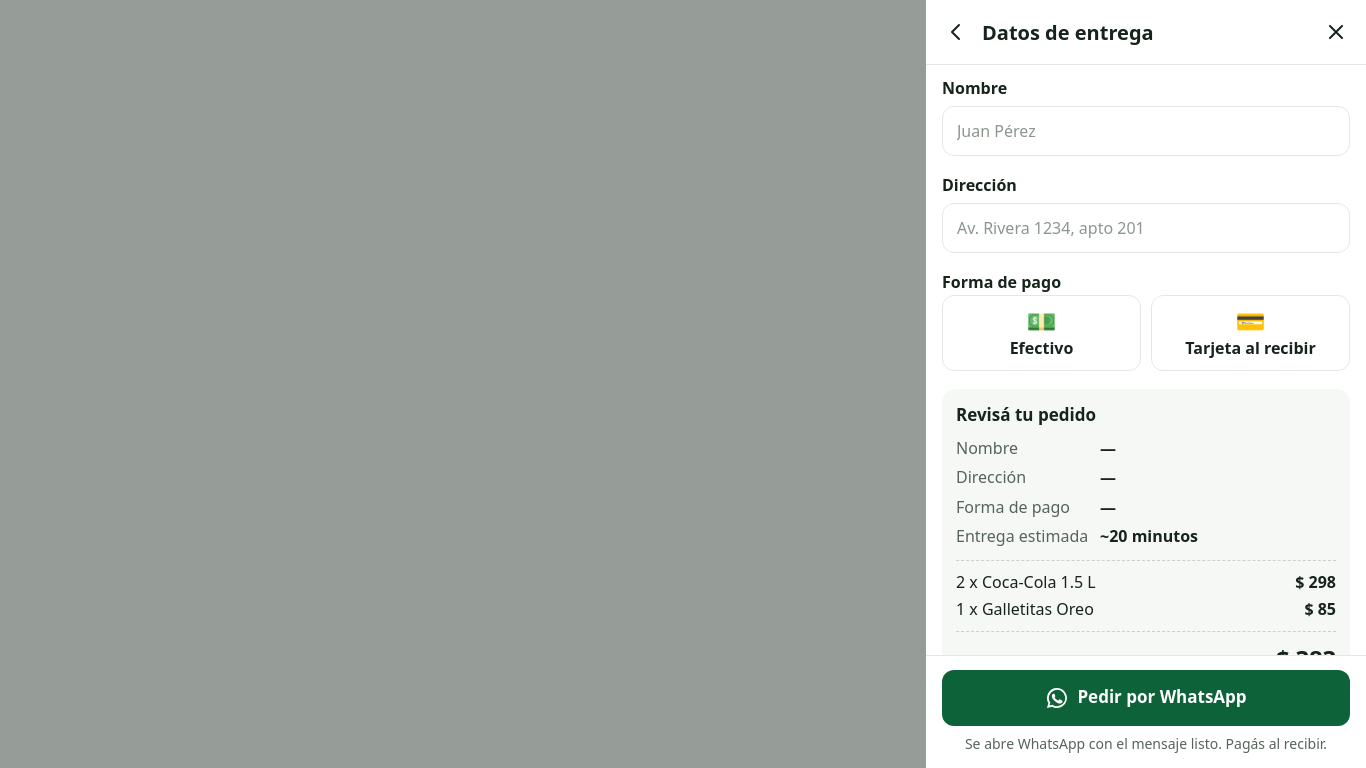
CheckoutModal › no envía sin dirección y lo explica
Step 1. Type "Juan" into the field labelled "Nombre" → (1146,131), box top-left (942, 106), bottom-right (1350, 156)
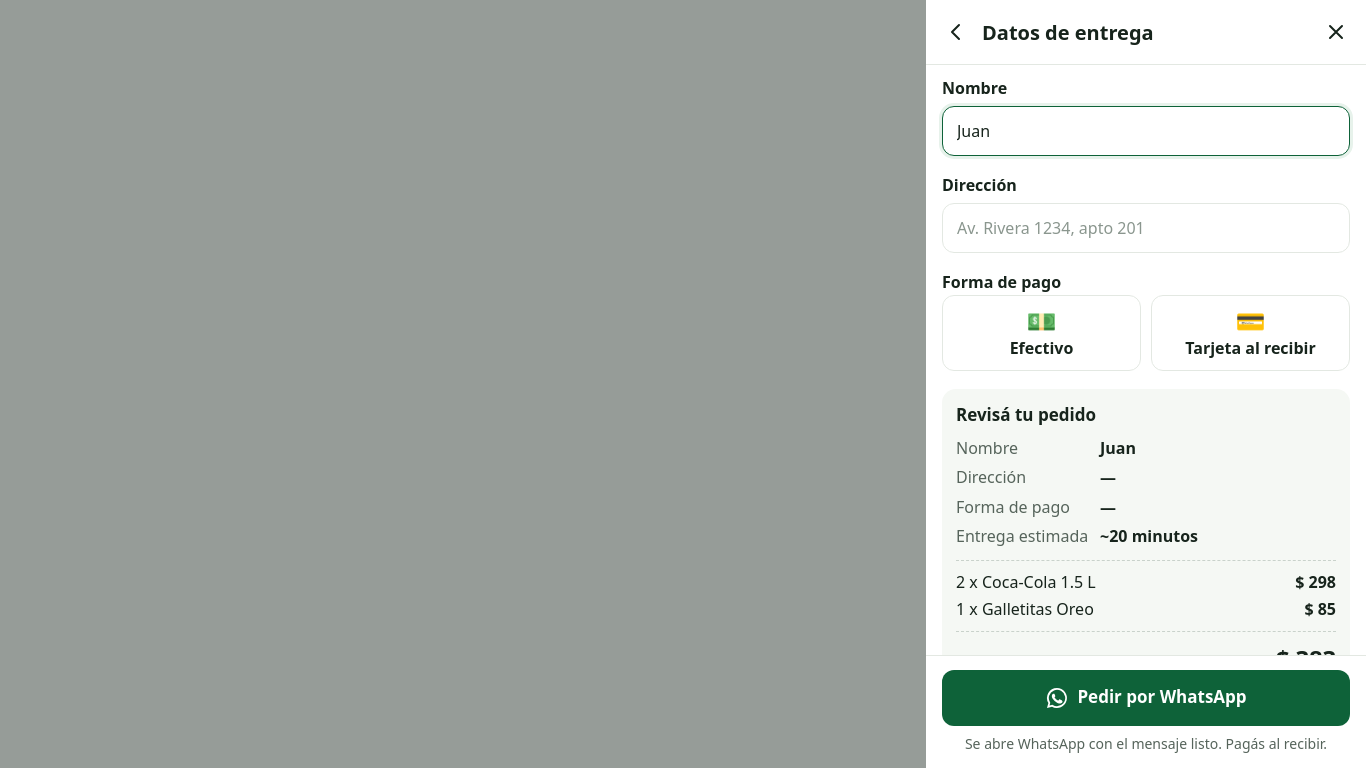
Step 2. Click the radio button labelled "💵 Efectivo" → (1042,333), box top-left (942, 295), bottom-right (1141, 371)
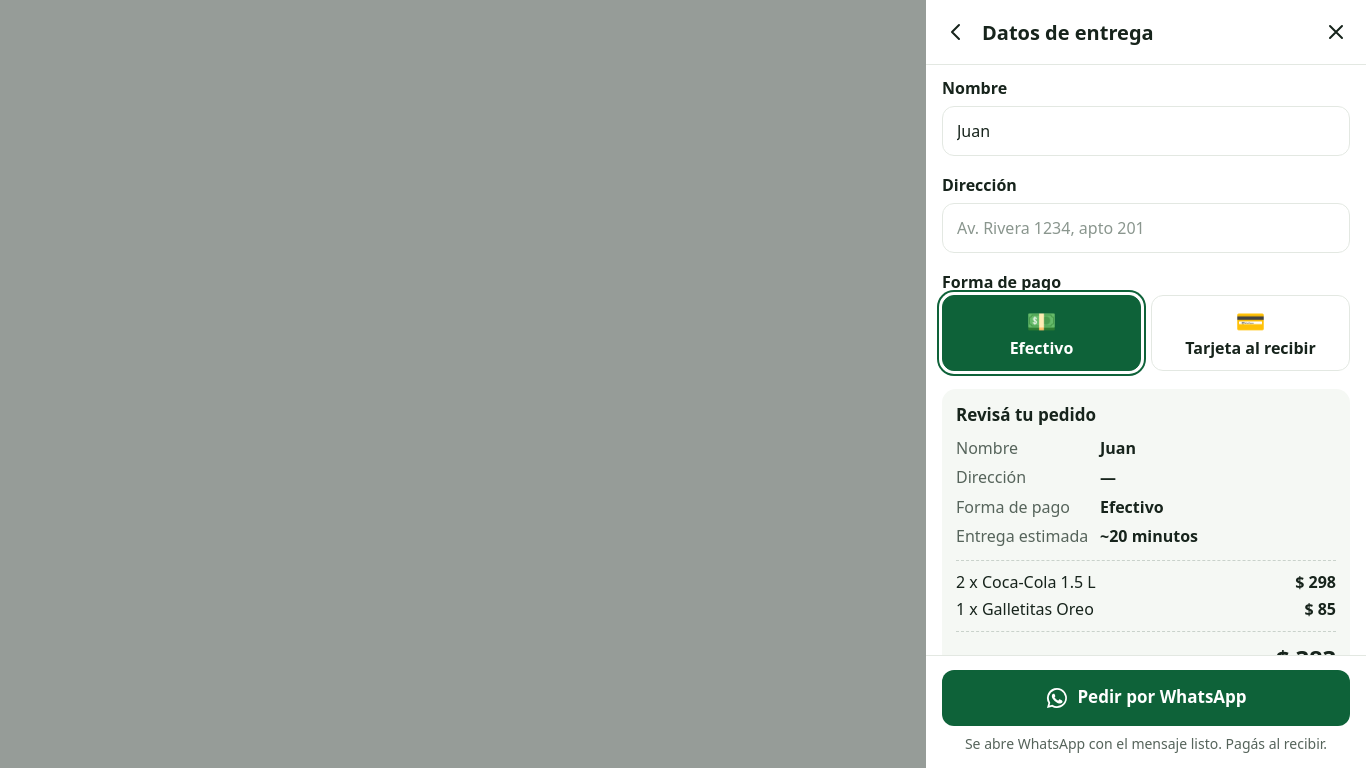
Step 3. Click the button "Pedir por WhatsApp" → (1146,698), box top-left (942, 670), bottom-right (1350, 726)
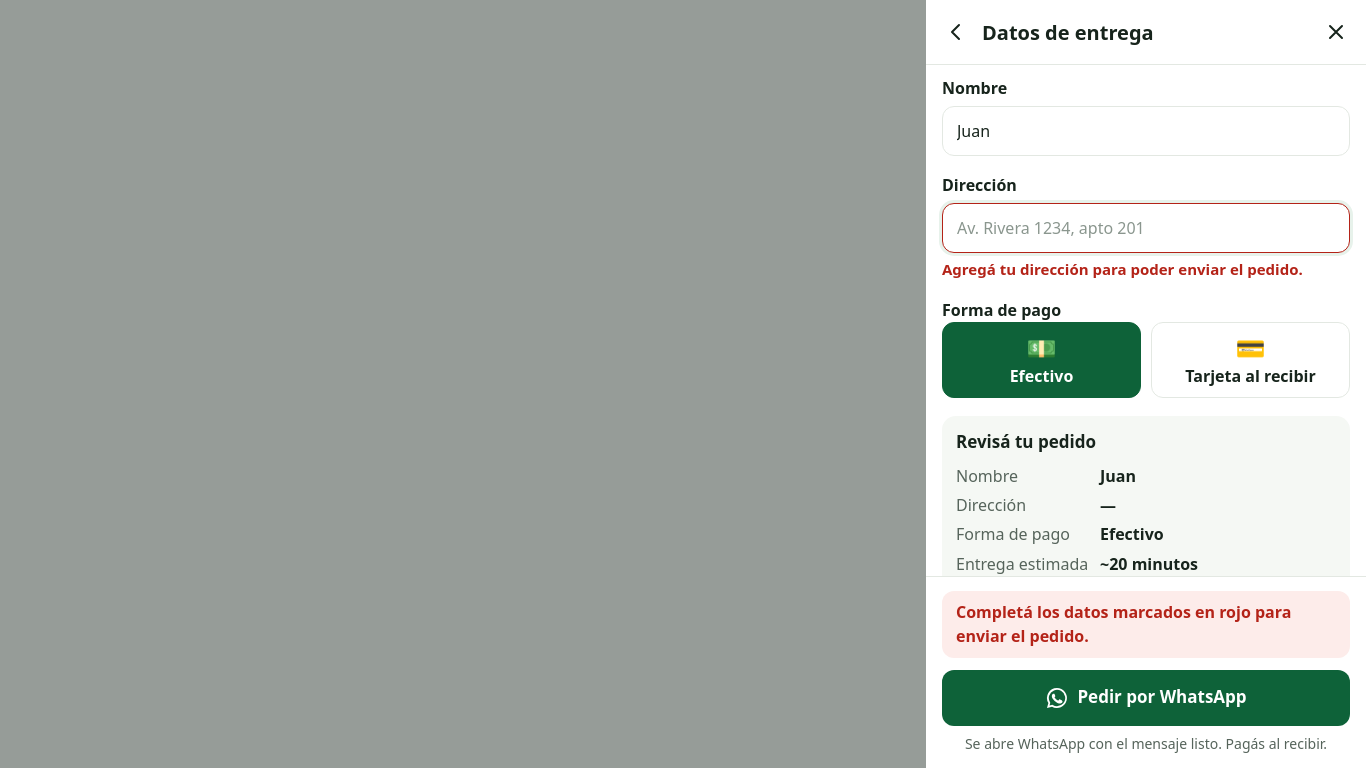
Expected: the text "Agregá tu dirección para poder enviar el pedido." is shown, top-left (942, 259), bottom-right (1350, 281)
